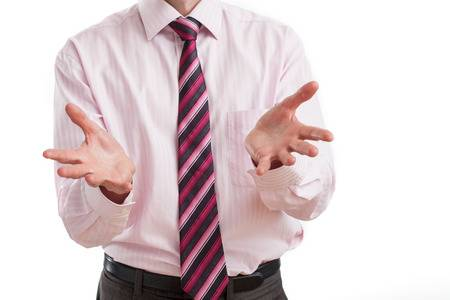F_belt: (104, 253, 285, 290)
F_shirt: (50, 1, 334, 277)
F_tie: (158, 17, 230, 300)
